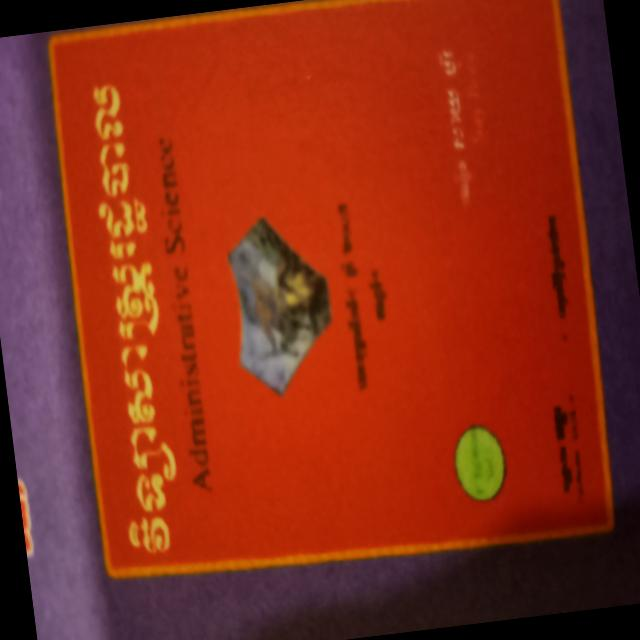Yolov11_80vkh: (80, 75, 184, 564)
